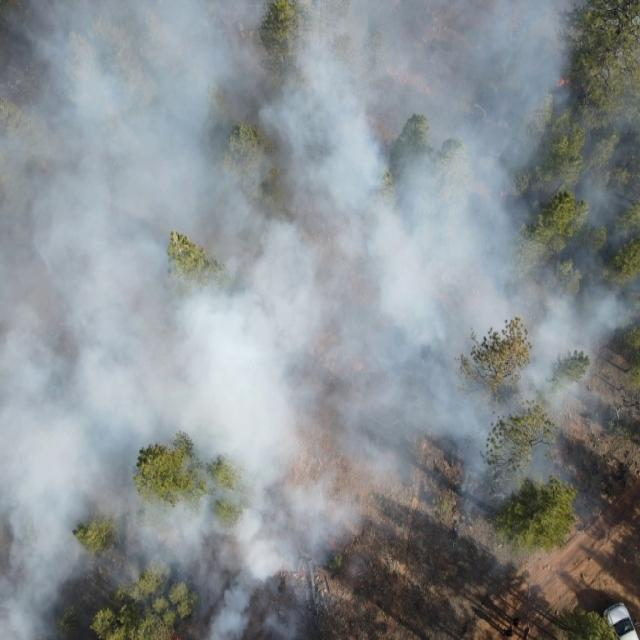fire: (554, 76, 572, 88)
smoke: (0, 0, 354, 640), (354, 0, 640, 559)
